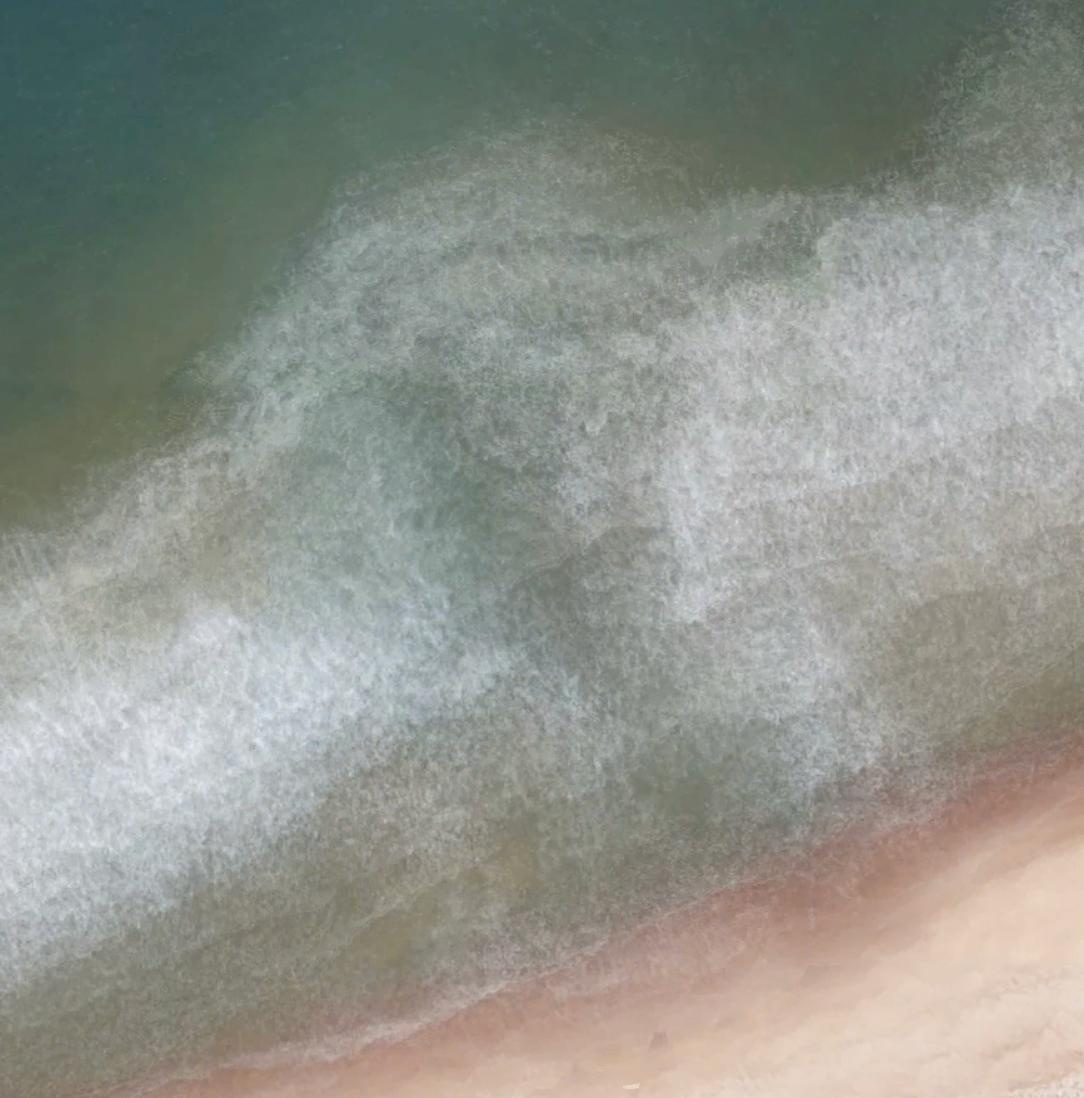rip_current: (293, 186, 794, 811)
